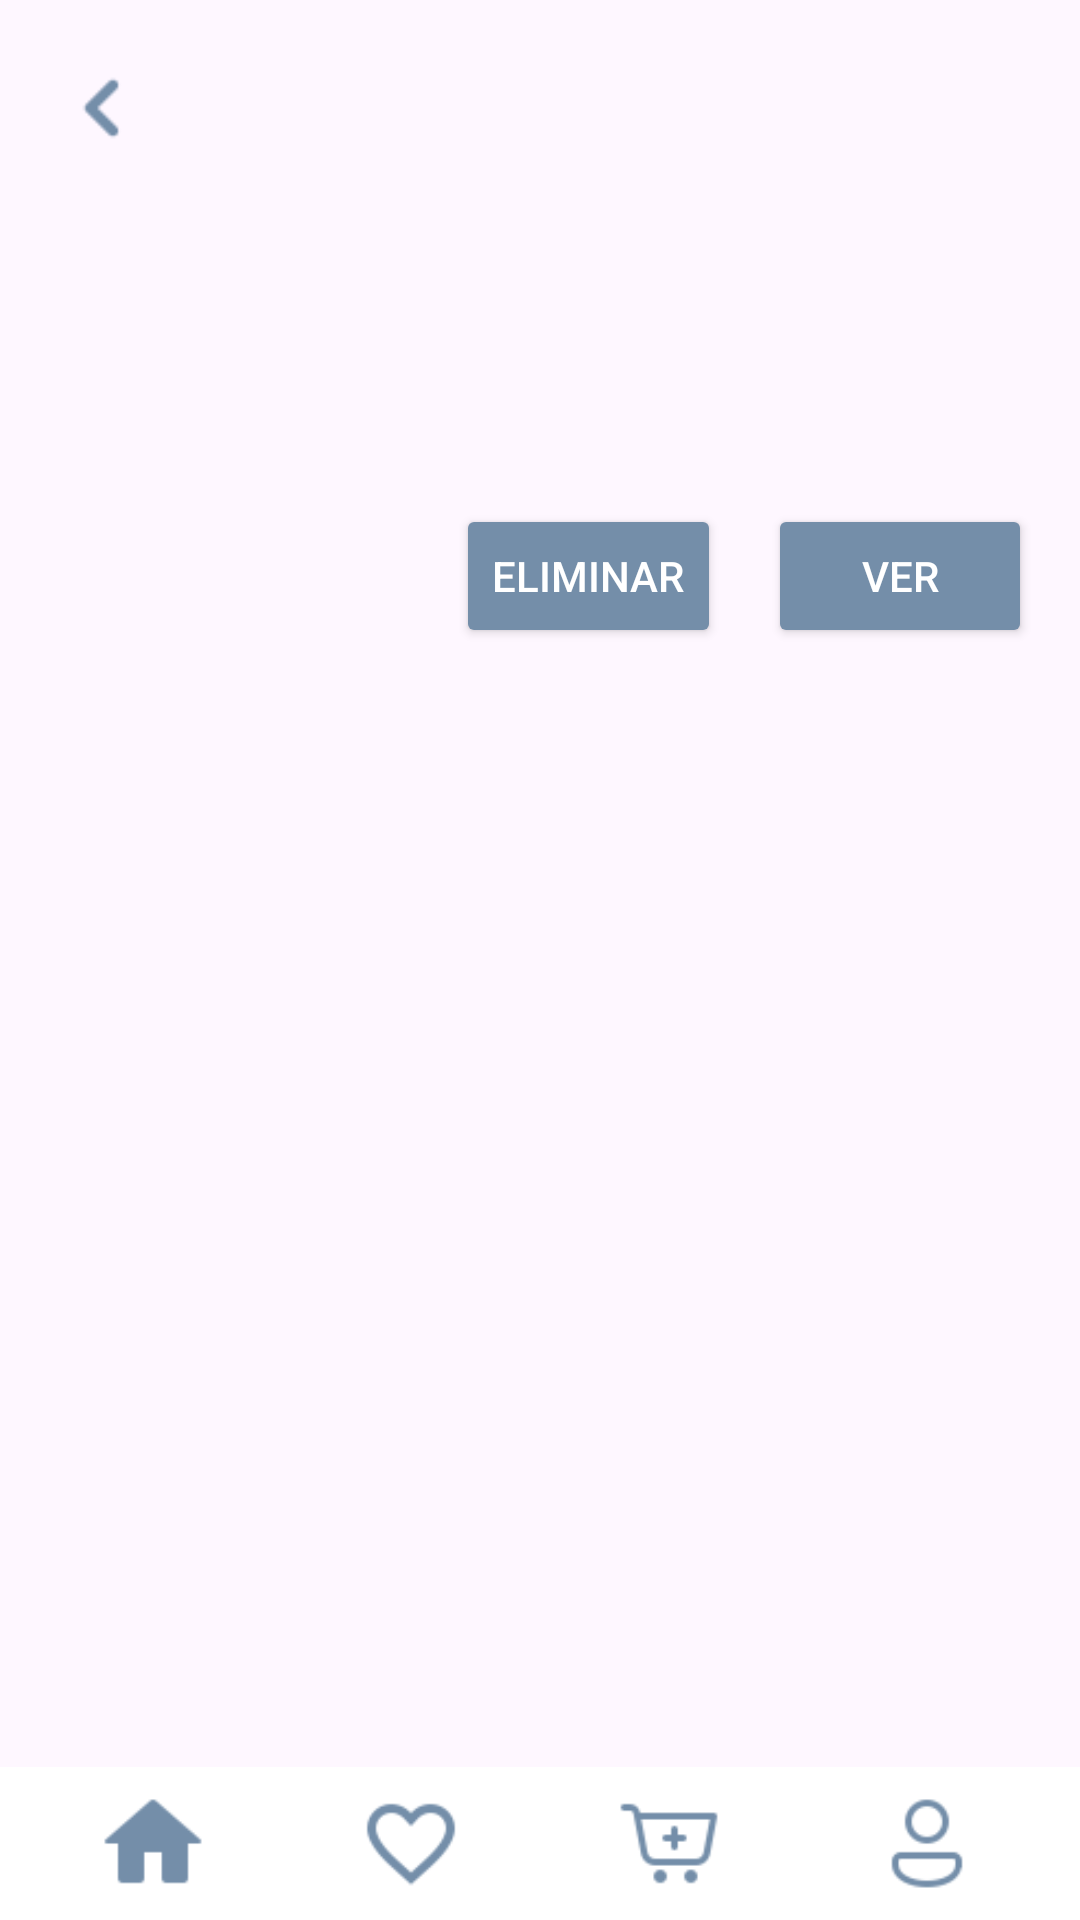

Icons on this 1080 x 1920 Android screen, each with its box as (x1, y1, x2, y2):
back: (84, 79, 119, 137)
Carrito: (620, 1803, 718, 1884)
Corazón: (367, 1803, 455, 1885)
Inicio: (104, 1799, 202, 1884)
Usuario: (891, 1799, 963, 1888)
